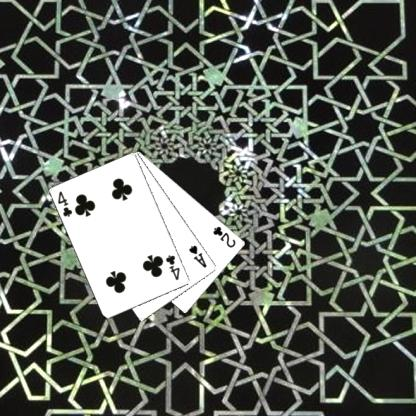2C: (211, 223, 237, 249)
4C: (163, 252, 182, 282), (55, 189, 74, 218)
AS: (187, 242, 208, 269)
